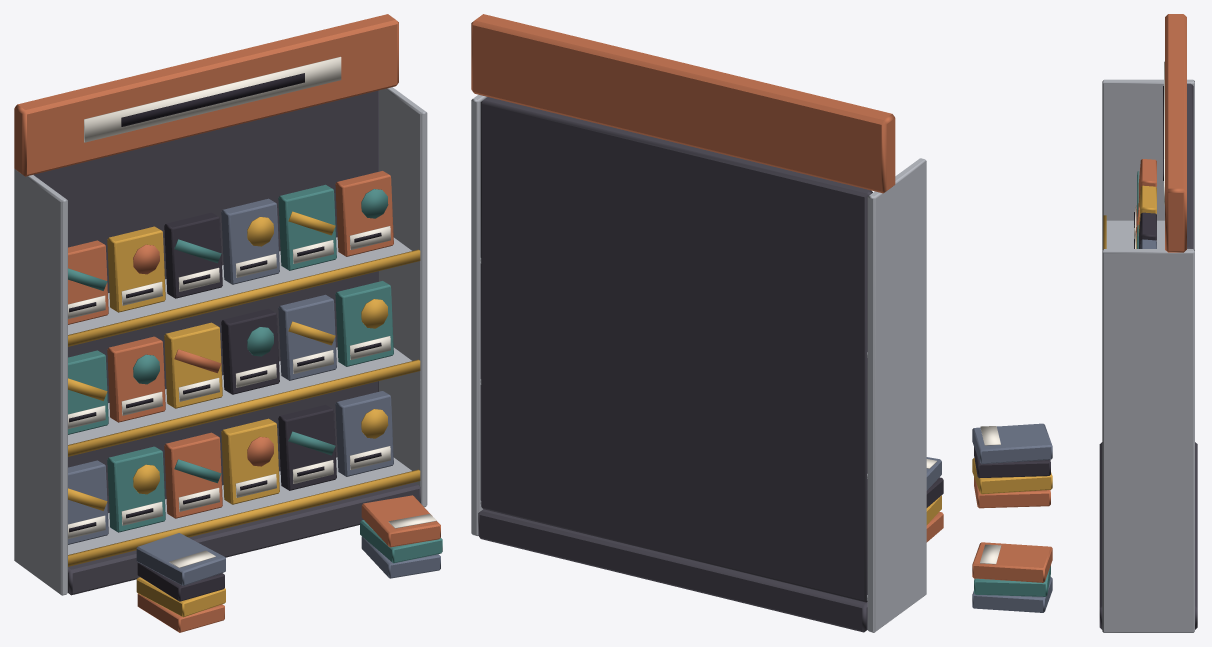
The model's file is retail_shelf_l2.glb.
3 renders of one model, left to right at view 1: azimuth 30°, elevation 25°; view 2: azimuth 150°, elevation 25°; view 3: azimuth 270°, elevation 25°, orthographic. The views are drawn at different scales.
Parts seen in each view (by area): view 1: retail_shelf_l2; view 2: retail_shelf_l2; view 3: retail_shelf_l2.
Part boxes in pixels (x1,y1,x2,y2): retail_shelf_l2: [14, 14, 442, 632]; retail_shelf_l2: [471, 14, 943, 632]; retail_shelf_l2: [972, 14, 1197, 632].
Bounding box in the file's own units: 1.54 × 1.81 × 0.8275.
